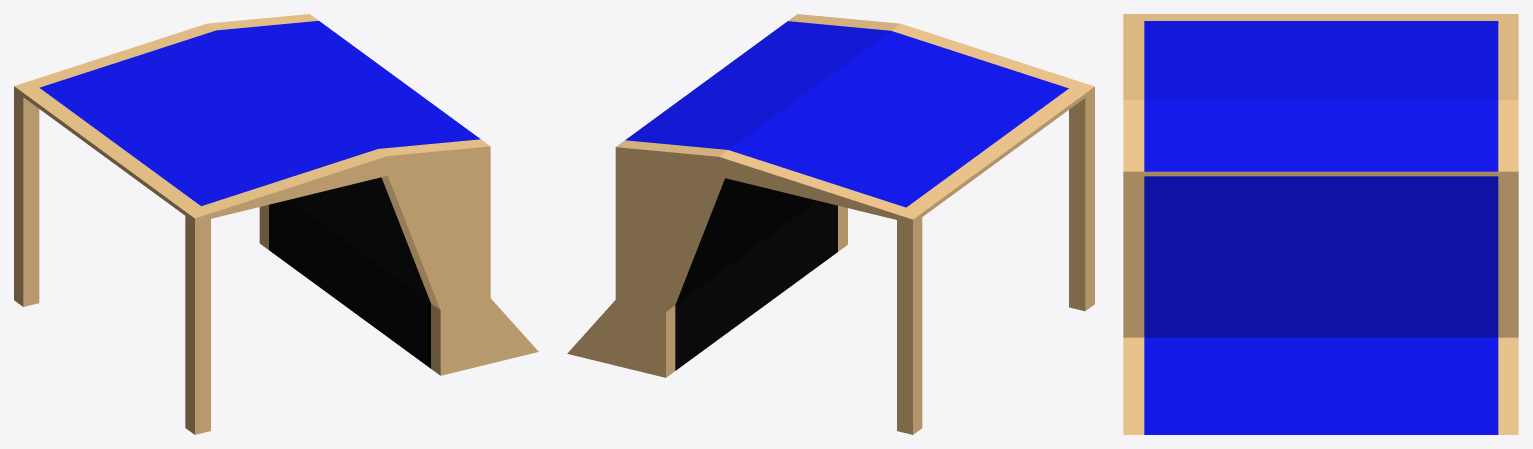
The model's file is CarStandBlue.obj.
3 views of the same model, side by side, from view 1: azimuth 30°, elevation 25°; view 2: azimuth 150°, elevation 25°; view 3: azimuth 270°, elevation 25° (orthographic). The views are drawn at different scales.
Visible parts, largest first — view 1: Cube.007_Cube.011; view 2: Cube.007_Cube.011; view 3: Cube.007_Cube.011.
Part boxes in pixels (bbox=[...]): Cube.007_Cube.011: bbox=[14, 14, 538, 434]; Cube.007_Cube.011: bbox=[567, 14, 1094, 434]; Cube.007_Cube.011: bbox=[1123, 14, 1518, 434].
Bounding box in the file's own units: 5.06 × 3.27 × 4.6.
